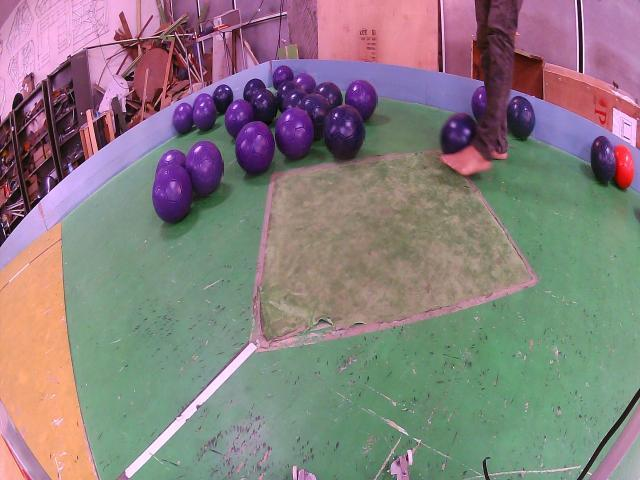jambhalya: (153, 165, 192, 223), (185, 141, 223, 196), (235, 122, 275, 174), (275, 109, 315, 159), (346, 80, 377, 121), (225, 100, 255, 138), (192, 93, 218, 132), (156, 150, 186, 172), (173, 104, 194, 133), (274, 65, 294, 90), (295, 74, 317, 93)
kaalyya: (324, 105, 364, 158), (297, 94, 330, 139), (440, 114, 476, 153), (506, 97, 535, 139), (590, 137, 616, 183), (250, 88, 277, 125), (314, 82, 342, 108), (276, 80, 301, 108), (281, 88, 307, 112), (213, 85, 234, 113), (244, 78, 266, 102)
